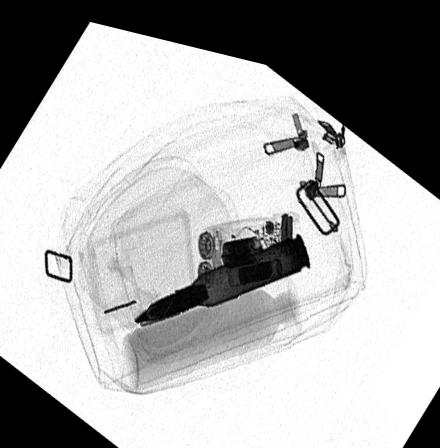Bullet: (132, 217, 310, 317)
